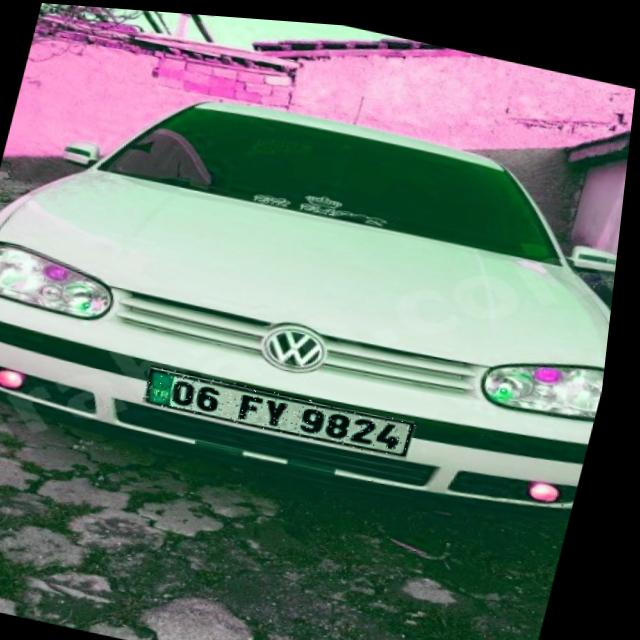license_plate: (148, 362, 428, 453)
